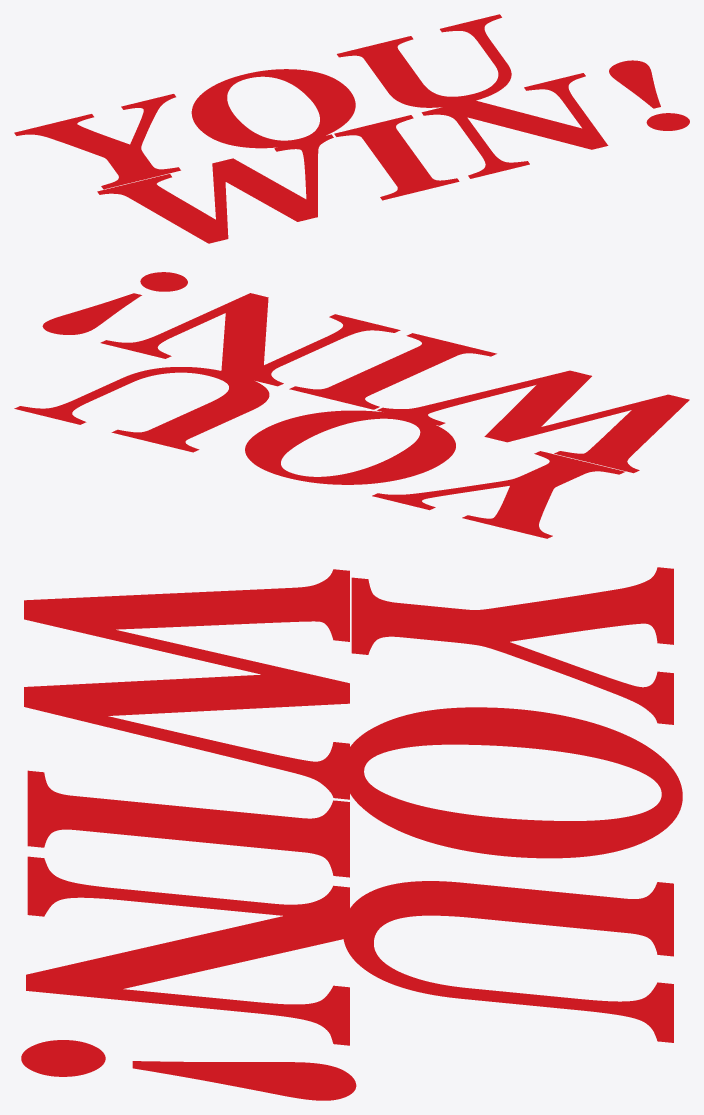
Rendered from redWin.gltf.
3 renders of one model, top to bottom at view 1: azimuth 30°, elevation 25°; view 2: azimuth 150°, elevation 25°; view 3: azimuth 270°, elevation 25°, orthographic. The views are drawn at different scales.
Visible parts, largest first — view 1: Red; view 2: Red; view 3: Red.
Part boxes in pixels (left/top/right/bottom): Red: left=14, top=14, right=689, bottom=243; Red: left=14, top=272, right=689, bottom=538; Red: left=21, top=567, right=682, bottom=1100.
Bounding box in the file's own units: 5.53 × 0 × 2.9.
